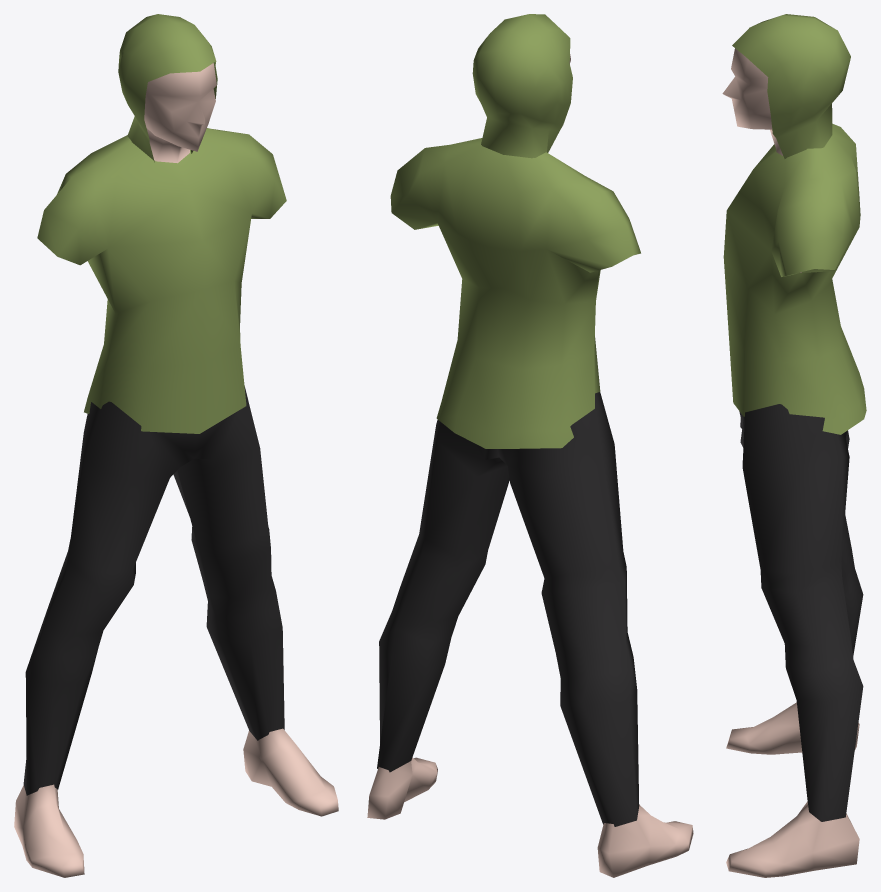
File: Character.fbx
3 views of the same model, side by side, from view 1: azimuth 30°, elevation 25°; view 2: azimuth 150°, elevation 25°; view 3: azimuth 270°, elevation 25° (orthographic). The views are drawn at different scales.
Parts seen in each view (by area): view 1: Pants, Shirt, Cube.001, hood; view 2: Pants, Shirt, hood, Cube.001; view 3: Shirt, Pants, Cube.001, hood.
Part boxes in pixels (left/top/right/bottom): Pants: left=23, top=386, right=284, bottom=795; Shirt: left=37, top=128, right=286, bottom=433; Cube.001: left=14, top=63, right=338, bottom=877; hood: left=118, top=14, right=217, bottom=162; Pants: left=377, top=392, right=639, bottom=826; Shirt: left=390, top=138, right=640, bottom=448; hood: left=472, top=14, right=572, bottom=158; Cube.001: left=367, top=54, right=693, bottom=877; Shirt: left=723, top=123, right=866, bottom=434; Pants: left=739, top=404, right=863, bottom=821; Cube.001: left=722, top=48, right=859, bottom=877; hood: left=732, top=14, right=850, bottom=158.
Bounding box in the file's own units: 167 × 424 × 70.11.
